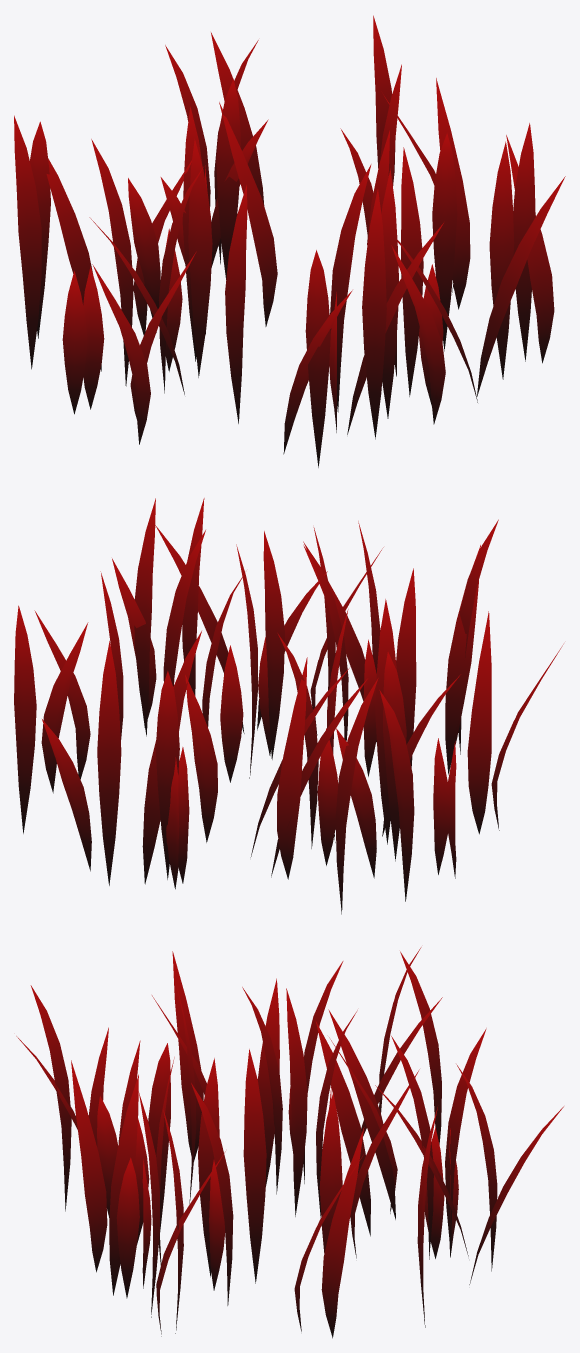
Rendered from grass.fbx.
3 views of the same model, one above another, from view 1: azimuth 30°, elevation 25°; view 2: azimuth 150°, elevation 25°; view 3: azimuth 270°, elevation 25° (orthographic). The views are drawn at different scales.
Visible parts, largest first — view 1: grass.005; view 2: grass.005; view 3: grass.005.
Boxes of the visible parts, x1,y1,x2,y2 form: grass.005: [14, 15, 565, 467]; grass.005: [14, 498, 563, 914]; grass.005: [16, 947, 563, 1338].
Size of the model in its own units: 2.64 by 1.22 by 2.32.
